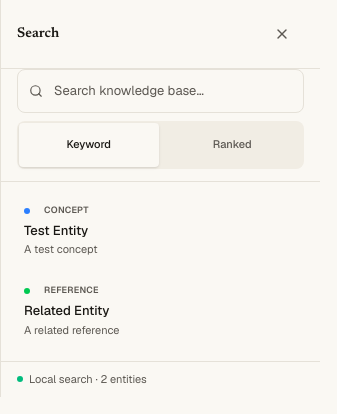
Test: RightPanel branch coverage › SearchPanel ranked mode › renders ranked claim results resolved via entityId
Step 1. Click the button "Ranked" → (232, 145), box [162, 123, 302, 167]
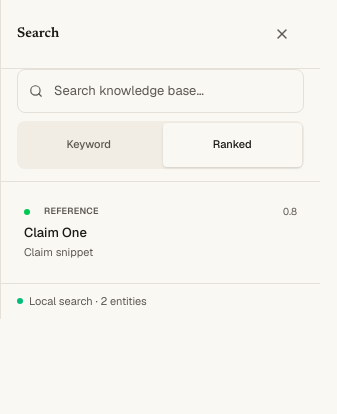
Check: the text "Reference" is shown, box [44, 205, 99, 217]
Check: the text "Claim One" is shown, box [24, 224, 87, 241]
